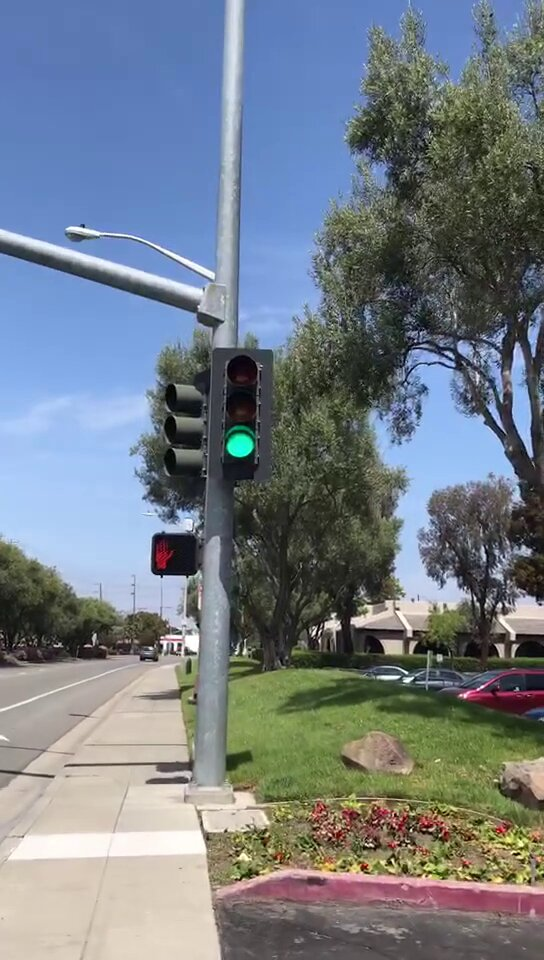green_light: (210, 350, 271, 479)
